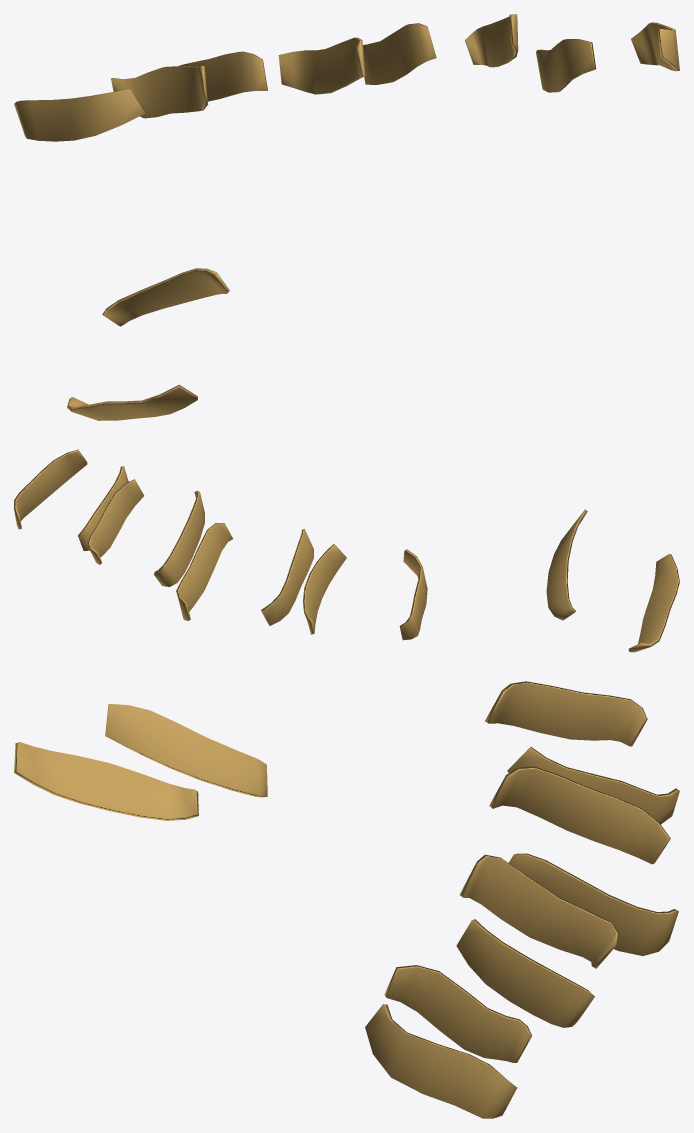
3 views of the same model, one above another, from view 1: azimuth 30°, elevation 25°; view 2: azimuth 150°, elevation 25°; view 3: azimuth 270°, elevation 25° (orthographic). The views are drawn at different scales.
Visible parts, largest first — view 1: 右侧掌指关节侧副韧带; view 2: 右侧掌指关节侧副韧带; view 3: 右侧掌指关节侧副韧带.
Part boxes in pixels (x1,y1,x2,y2): 右侧掌指关节侧副韧带: (14,14,679,420); 右侧掌指关节侧副韧带: (14,449,679,652); 右侧掌指关节侧副韧带: (14,681,679,1118).
Bounding box in the file's own units: 0.1376 × 0.0351 × 0.0907.
